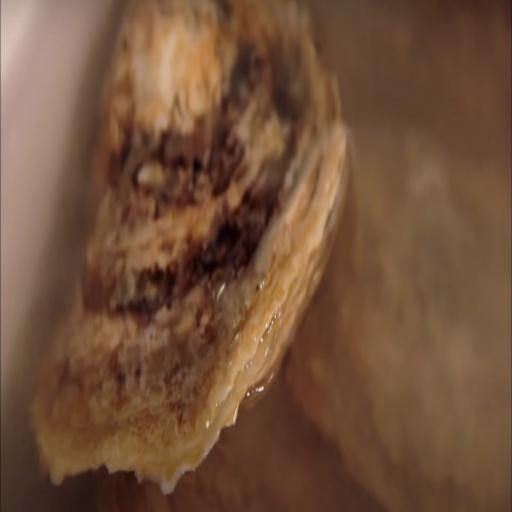Oyster-Closed: (32, 1, 351, 481), (284, 124, 512, 512)
